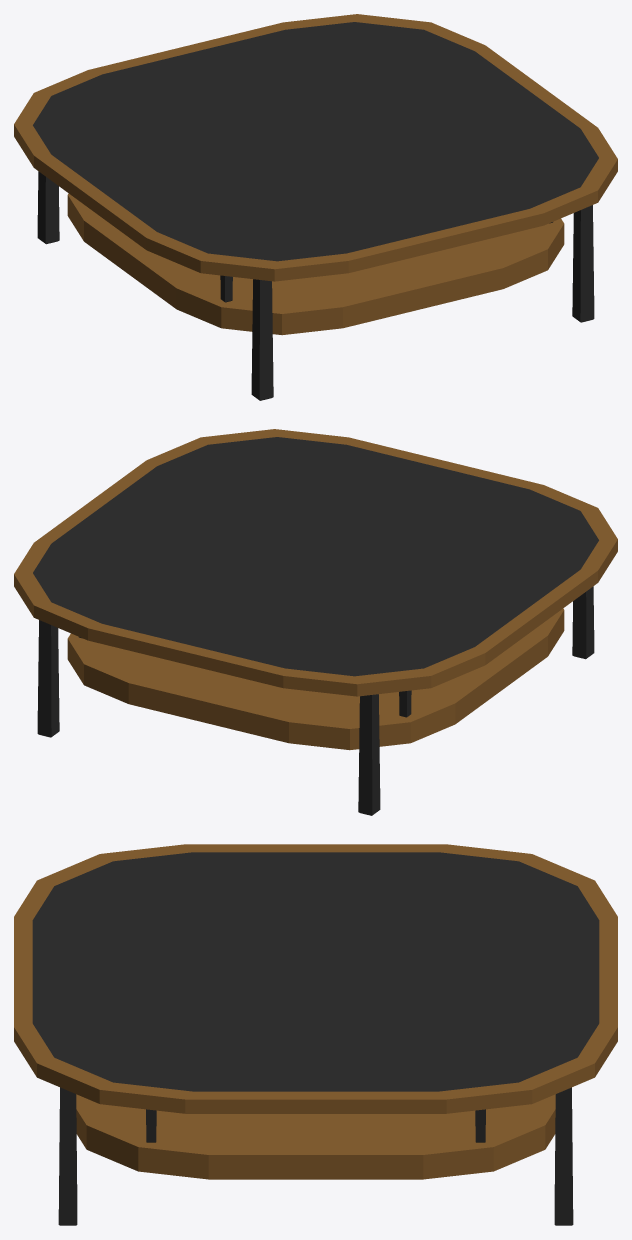
File: Table_5.fbx
The picture shows the model from 3 angles, top to bottom: view 1: azimuth 30°, elevation 25°; view 2: azimuth 150°, elevation 25°; view 3: azimuth 270°, elevation 25°; orthographic projection. The views are drawn at different scales.
Visible parts, largest first — view 1: Table_5; view 2: Table_5; view 3: Table_5.
Boxes of the visible parts, x1,y1,x2,y2 form: Table_5: (14,14,617,400); Table_5: (14,429,617,815); Table_5: (14,844,617,1225).
Size of the model in its own units: 0.7096 by 0.2072 by 0.7096.
